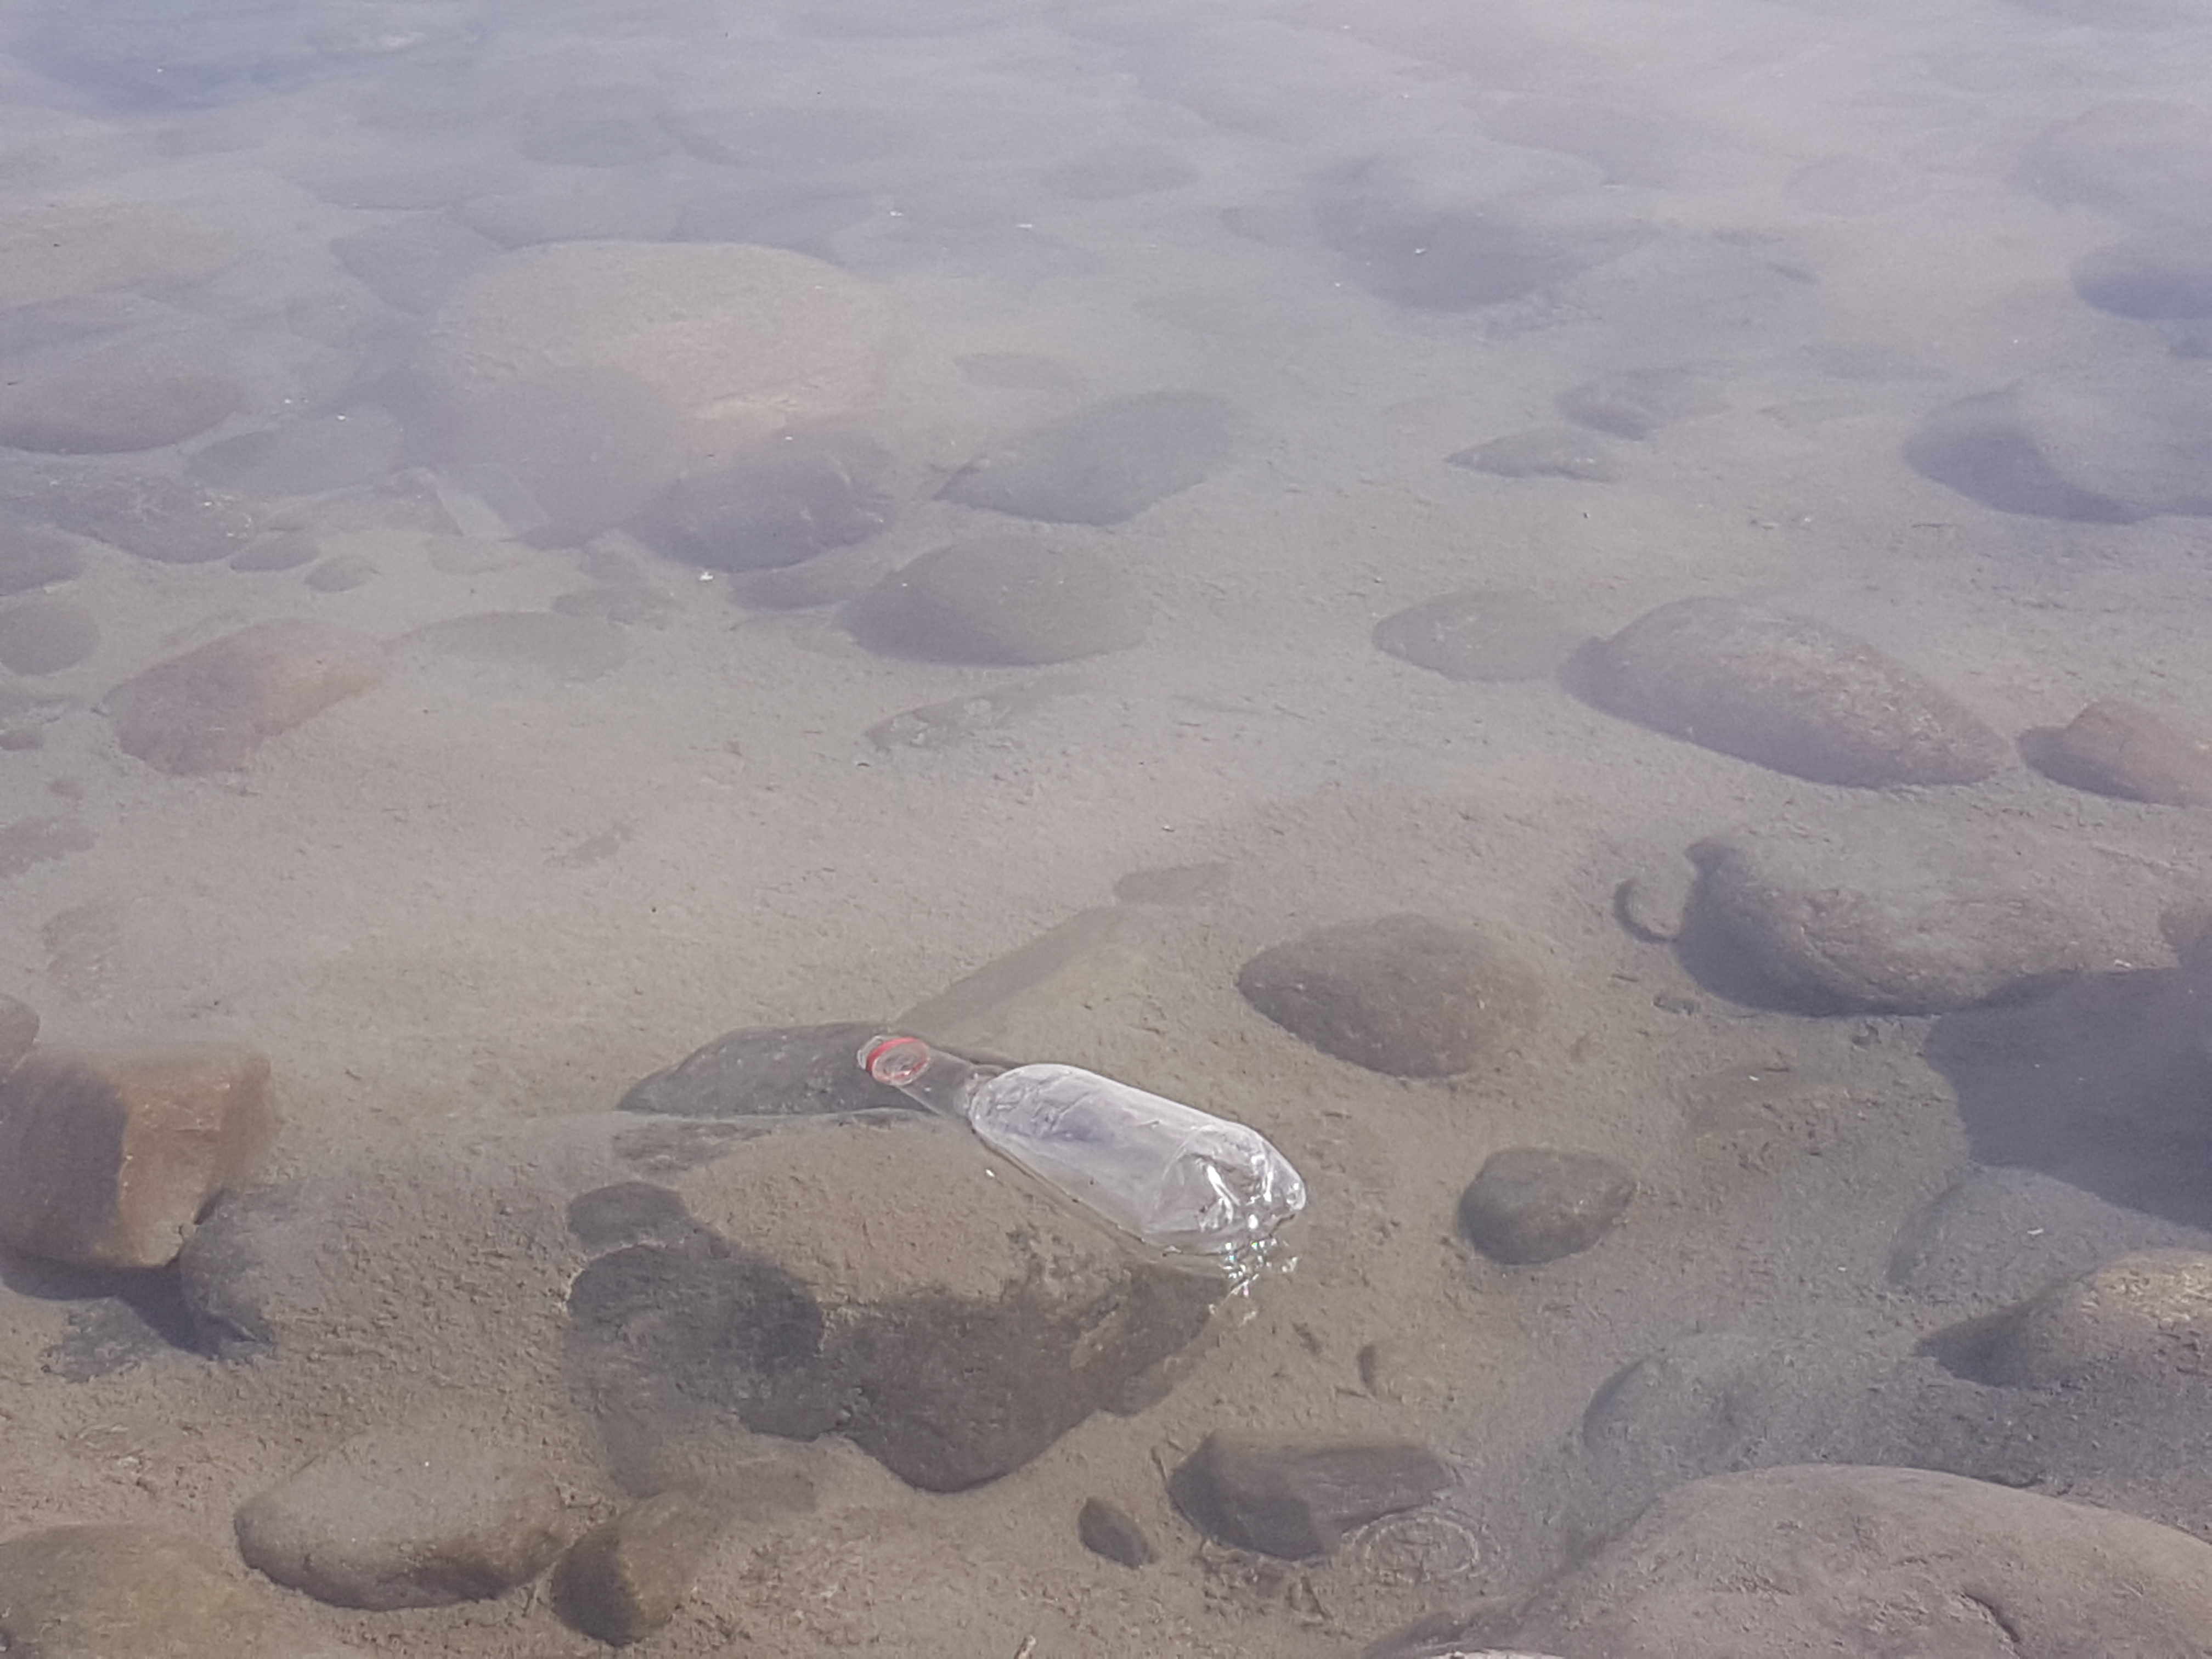Plastic Bottle: (859, 1030, 1306, 1281)
